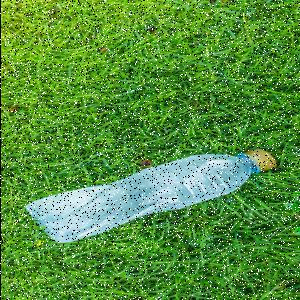Plastic-bottle: (25, 149, 277, 245)
